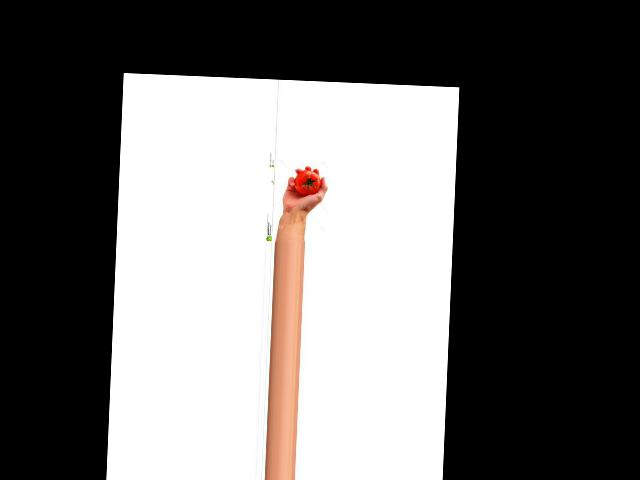tomato: (293, 169, 320, 195)
